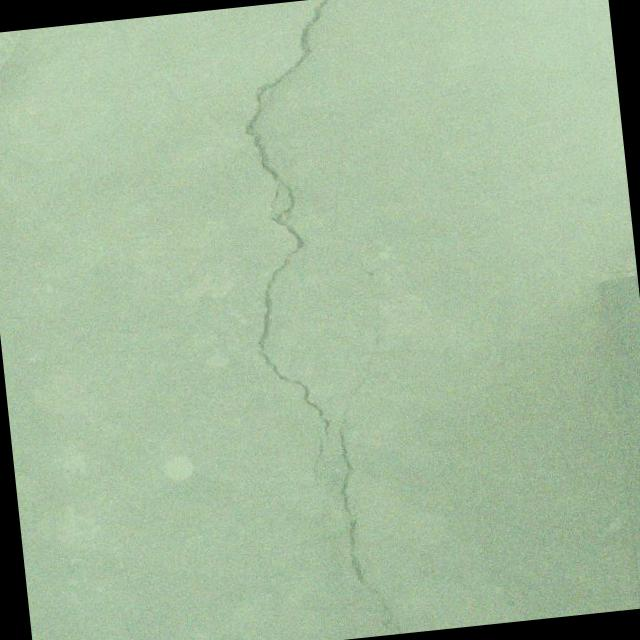crack: (220, 0, 377, 443), (315, 247, 419, 638), (392, 128, 518, 215), (308, 431, 326, 480)
